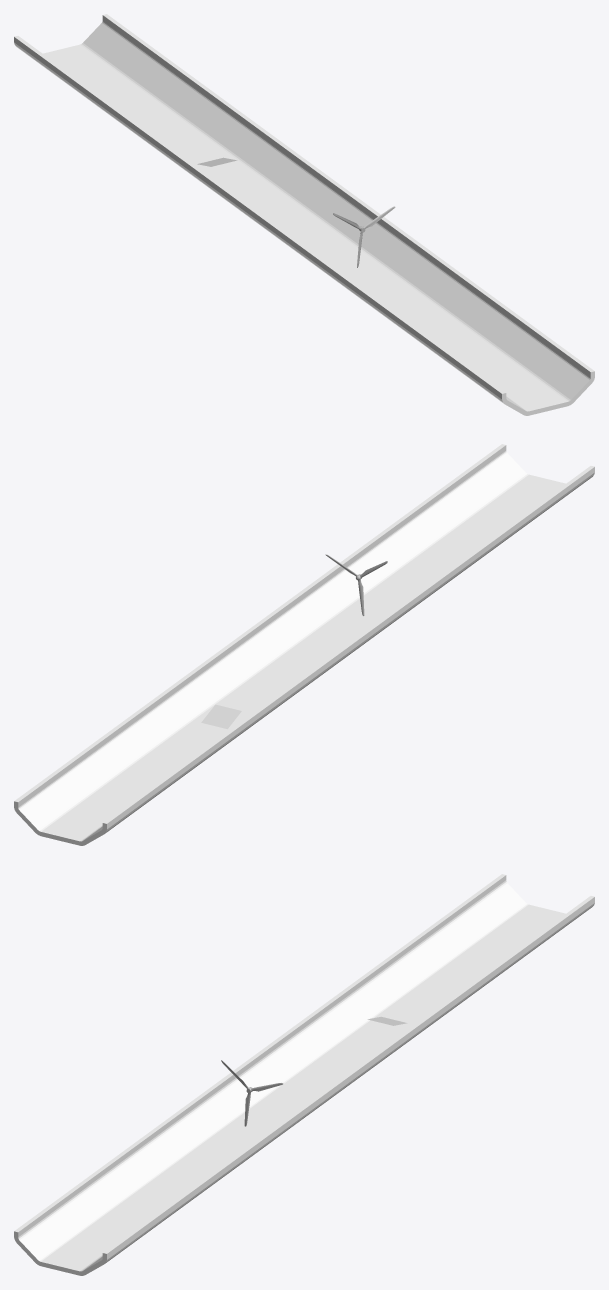
The model's file is level 5 patch.fbx.
3 renders of one model, top to bottom at view 1: azimuth 30°, elevation 25°; view 2: azimuth 150°, elevation 25°; view 3: azimuth 330°, elevation 25°, orthographic.
Visible parts, largest first — view 1: Plane.008; view 2: Plane.008, Plane.002; view 3: Plane.008.
Boxes of the visible parts, x1,y1,x2,y2 form: Plane.008: [14, 14, 594, 415]; Plane.008: [14, 444, 594, 845]; Plane.002: [201, 704, 241, 729]; Plane.008: [14, 874, 594, 1275].
Bounding box in the file's own units: 2862 × 1969 × 26041.
